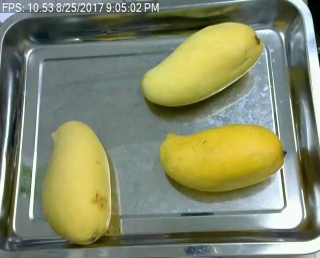Mango: (140, 22, 265, 110), (155, 121, 287, 198), (43, 114, 112, 249)
